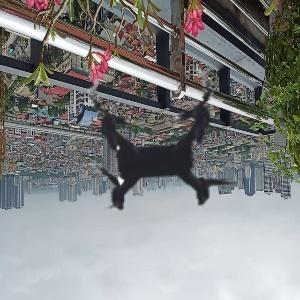drone: (17, 10, 296, 289)
